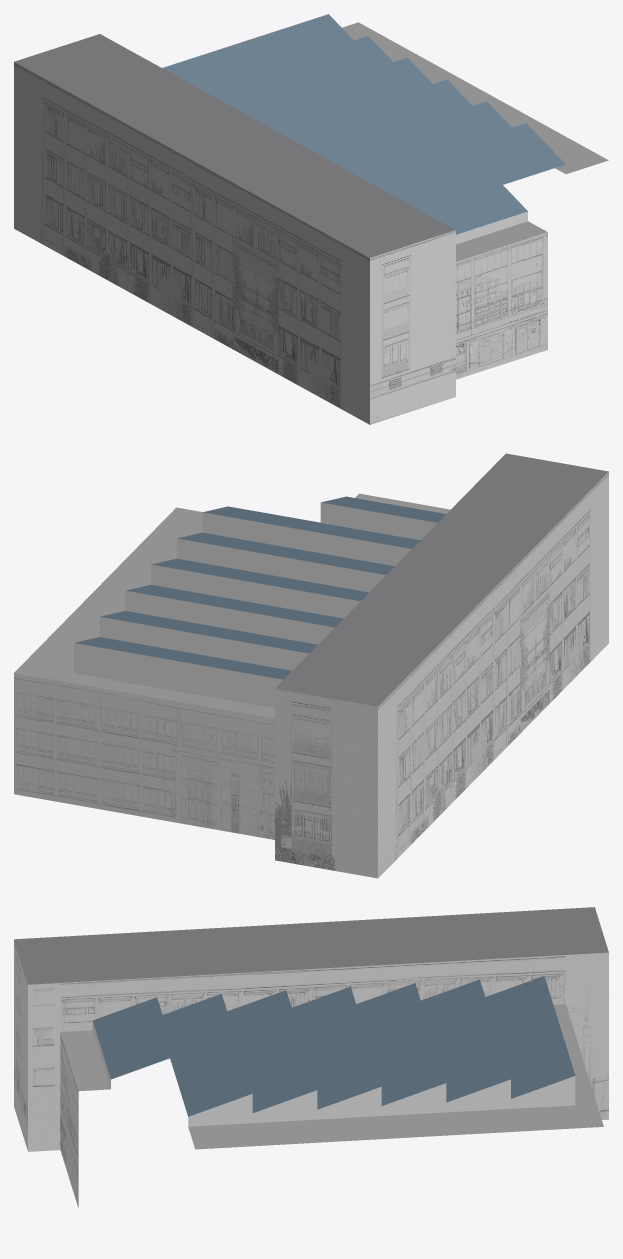
Rendered from Kutzbach-Bau.gltf.
3 renders of one model, top to bottom at view 1: azimuth 30°, elevation 25°; view 2: azimuth 150°, elevation 25°; view 3: azimuth 270°, elevation 25°, orthographic. The views are drawn at different scales.
Visible parts, largest first — view 1: Dach.1; view 2: Dach.1; view 3: Dach.1.
Boxes of the visible parts, bbox=[...] form: Dach.1: bbox=[14, 14, 608, 424]; Dach.1: bbox=[14, 453, 608, 878]; Dach.1: bbox=[14, 907, 608, 1208].
Size of the model in its own units: 42.14 by 17 by 54.84.
Materials: 12 (8 with a texture image).
